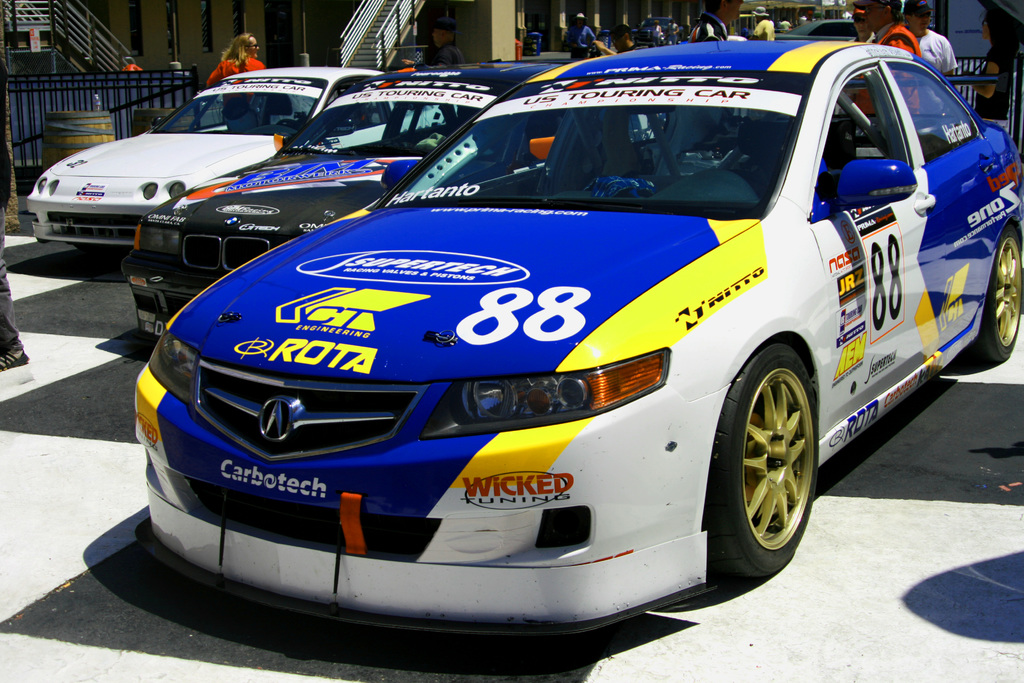Car: (24, 16, 1023, 633), (108, 53, 572, 349), (19, 60, 389, 260), (777, 17, 849, 36)
